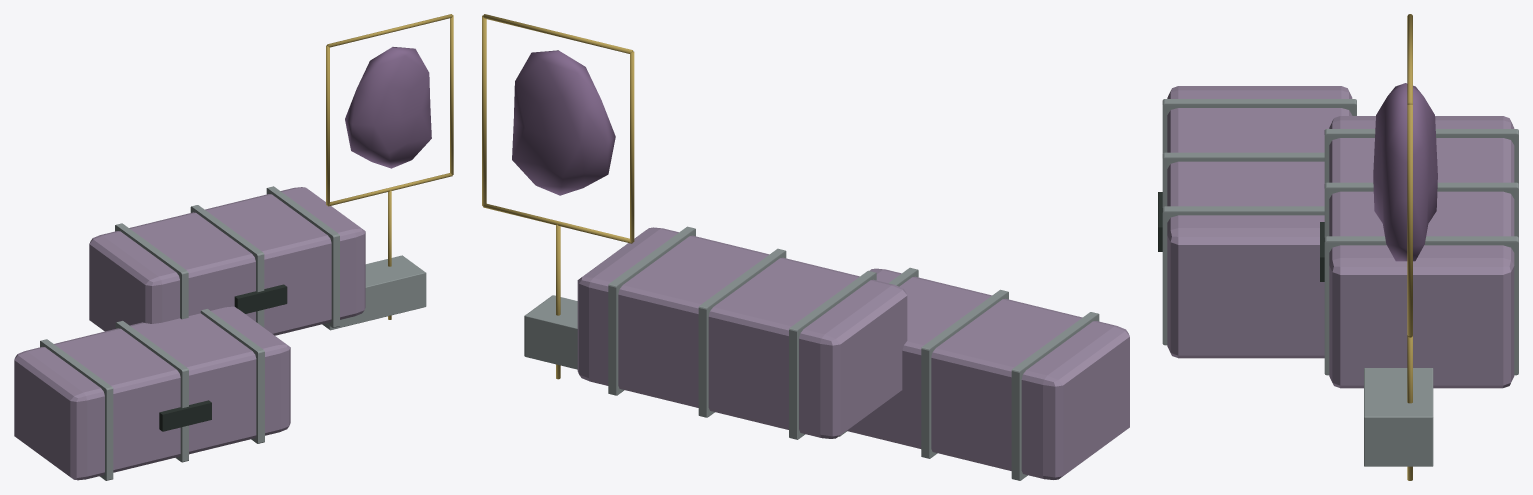
3 renders of one model, left to right at view 1: azimuth 30°, elevation 25°; view 2: azimuth 150°, elevation 25°; view 3: azimuth 270°, elevation 25°, orthographic. The views are drawn at different scales.
Visible parts, largest first — view 1: TI085 / armored case body, TI085 / armored case body.001, TI085 / separate mineral specimen, TI085 / folded side cargo rail, TI085 / case reinforcing strap, TI085 / case reinforcing strap.005, TI085 / case reinforcing strap.002, TI085 / case reinforcing strap.001, TI085 / case reinforcing strap.004, TI085 / case reinforcing strap.003, TI085 / recessed case latch, TI085 / recessed case latch.001 (+4 smaller); view 2: TI085 / armored case body.001, TI085 / armored case body, TI085 / separate mineral specimen, TI085 / folded side cargo rail, TI085 / case reinforcing strap, TI085 / case reinforcing strap.004, TI085 / case reinforcing strap.001, TI085 / case reinforcing strap.005, TI085 / case reinforcing strap.003, TI085 / specimen display frame.003, TI085 / specimen display frame.001, TI085 / specimen display frame.002 (+1 smaller); view 3: TI085 / armored case body, TI085 / armored case body.001, TI085 / separate mineral specimen, TI085 / folded side cargo rail, TI085 / case reinforcing strap.005, TI085 / case reinforcing strap.002, TI085 / case reinforcing strap, TI085 / case reinforcing strap.001, TI085 / case reinforcing strap.004, TI085 / case reinforcing strap.003, TI085 / specimen display frame.001, TI085 / specimen display frame.002 (+1 smaller).
Part boxes in pixels (x1,y1,x2,y2): TI085 / armored case body: (14, 306, 290, 480); TI085 / armored case body.001: (89, 187, 365, 335); TI085 / separate mineral specimen: (345, 47, 431, 168); TI085 / folded side cargo rail: (322, 255, 426, 330); TI085 / case reinforcing strap: (40, 339, 113, 480); TI085 / case reinforcing strap.005: (266, 186, 339, 327); TI085 / case reinforcing strap.002: (200, 309, 264, 443); TI085 / case reinforcing strap.001: (115, 320, 188, 462); TI085 / case reinforcing strap.004: (190, 205, 264, 327); TI085 / case reinforcing strap.003: (115, 223, 188, 319); TI085 / recessed case latch: (159, 400, 211, 431); TI085 / recessed case latch.001: (234, 284, 287, 313); TI085 / armored case body.001: (577, 227, 907, 438); TI085 / armored case body: (847, 268, 1129, 479); TI085 / separate mineral specimen: (512, 50, 615, 195); TI085 / folded side cargo rail: (524, 295, 577, 369); TI085 / case reinforcing strap: (1011, 312, 1099, 480); TI085 / case reinforcing strap.004: (698, 248, 786, 417); TI085 / case reinforcing strap.001: (921, 289, 1008, 458); TI085 / case reinforcing strap.005: (608, 226, 695, 395); TI085 / case reinforcing strap.003: (789, 270, 876, 439); TI085 / specimen display frame.003: (630, 51, 634, 242); TI085 / specimen display frame.001: (482, 15, 486, 205); TI085 / specimen display frame.002: (483, 14, 633, 53); TI085 / armored case body: (1167, 86, 1352, 358); TI085 / armored case body.001: (1329, 116, 1514, 388); TI085 / separate mineral specimen: (1373, 83, 1437, 261); TI085 / folded side cargo rail: (1364, 368, 1433, 466); TI085 / case reinforcing strap.005: (1324, 236, 1518, 375); TI085 / case reinforcing strap.002: (1162, 206, 1324, 345); TI085 / case reinforcing strap: (1162, 99, 1356, 153); TI085 / case reinforcing strap.001: (1162, 152, 1324, 207); TI085 / case reinforcing strap.004: (1324, 182, 1518, 237); TI085 / case reinforcing strap.003: (1324, 129, 1518, 183); TI085 / specimen display frame.001: (1407, 104, 1412, 336); TI085 / specimen display frame.002: (1407, 14, 1412, 104).
Bounding box in the file's own units: 3.36 × 2.08 × 1.56.
